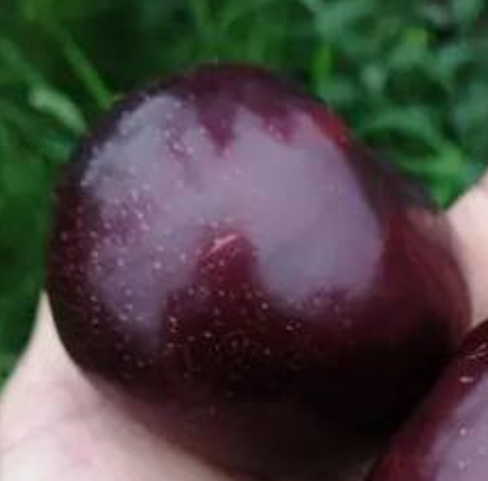plum_A: (46, 64, 459, 473)
